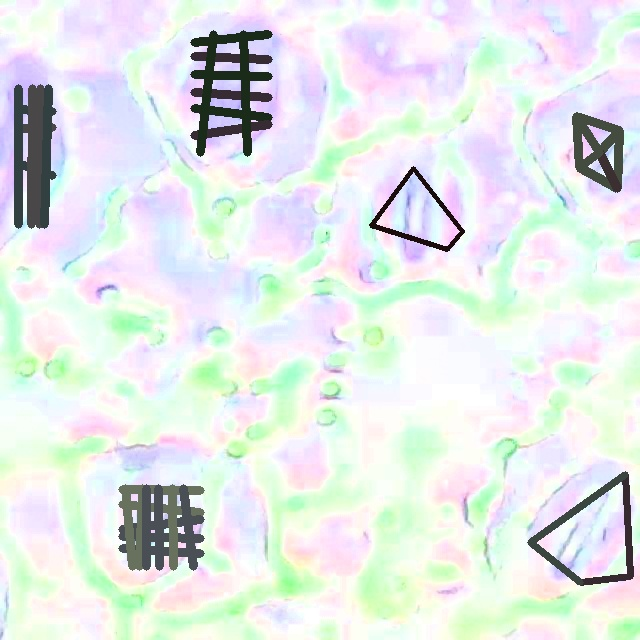open: (527, 472, 633, 585), (191, 31, 272, 155), (369, 166, 464, 251), (119, 484, 203, 569), (15, 84, 56, 228), (575, 112, 623, 192)
